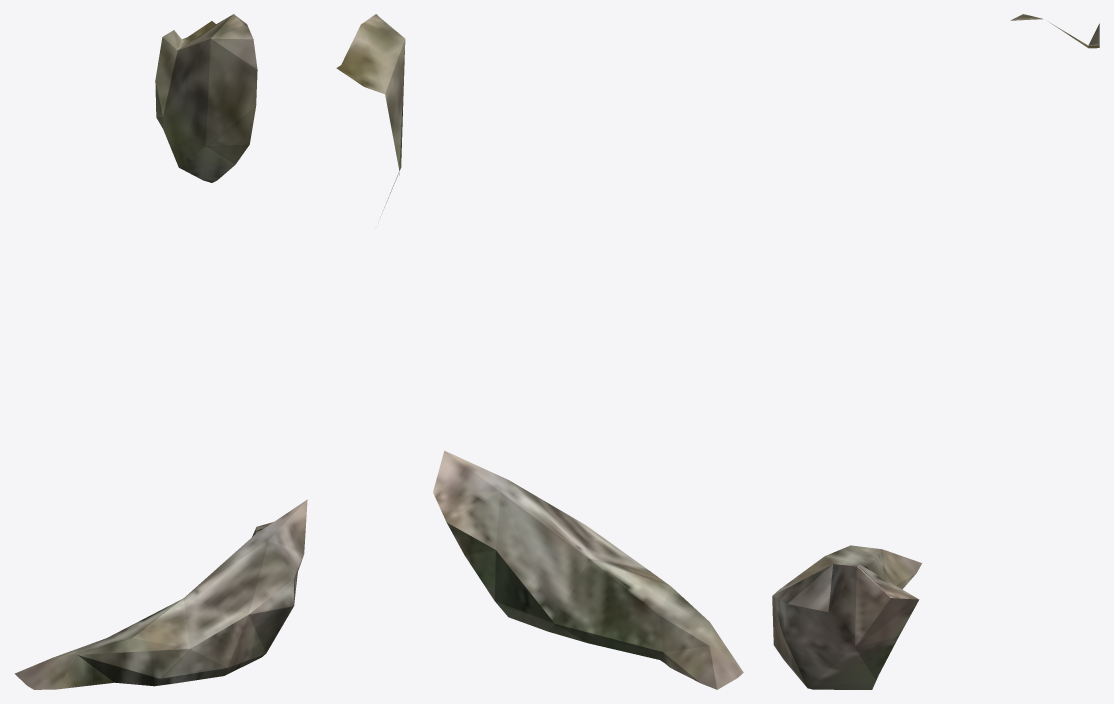
3 renders of one model, left to right at view 1: azimuth 30°, elevation 25°; view 2: azimuth 150°, elevation 25°; view 3: azimuth 270°, elevation 25°, orthographic. The views are drawn at different scales.
Bounding box in the file's own units: 0.6654 × 1.32 × 0.5507.
1 material, 1 textured.
